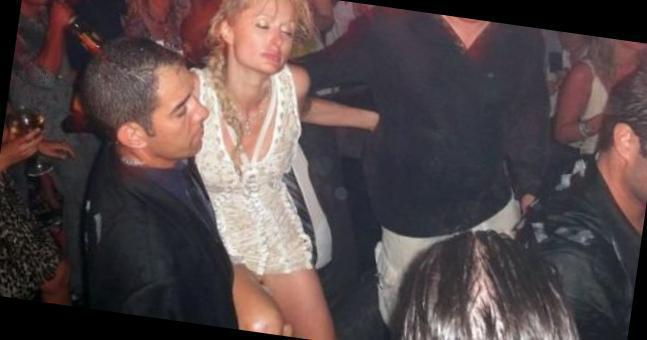Drunk: (238, 0, 294, 73)
